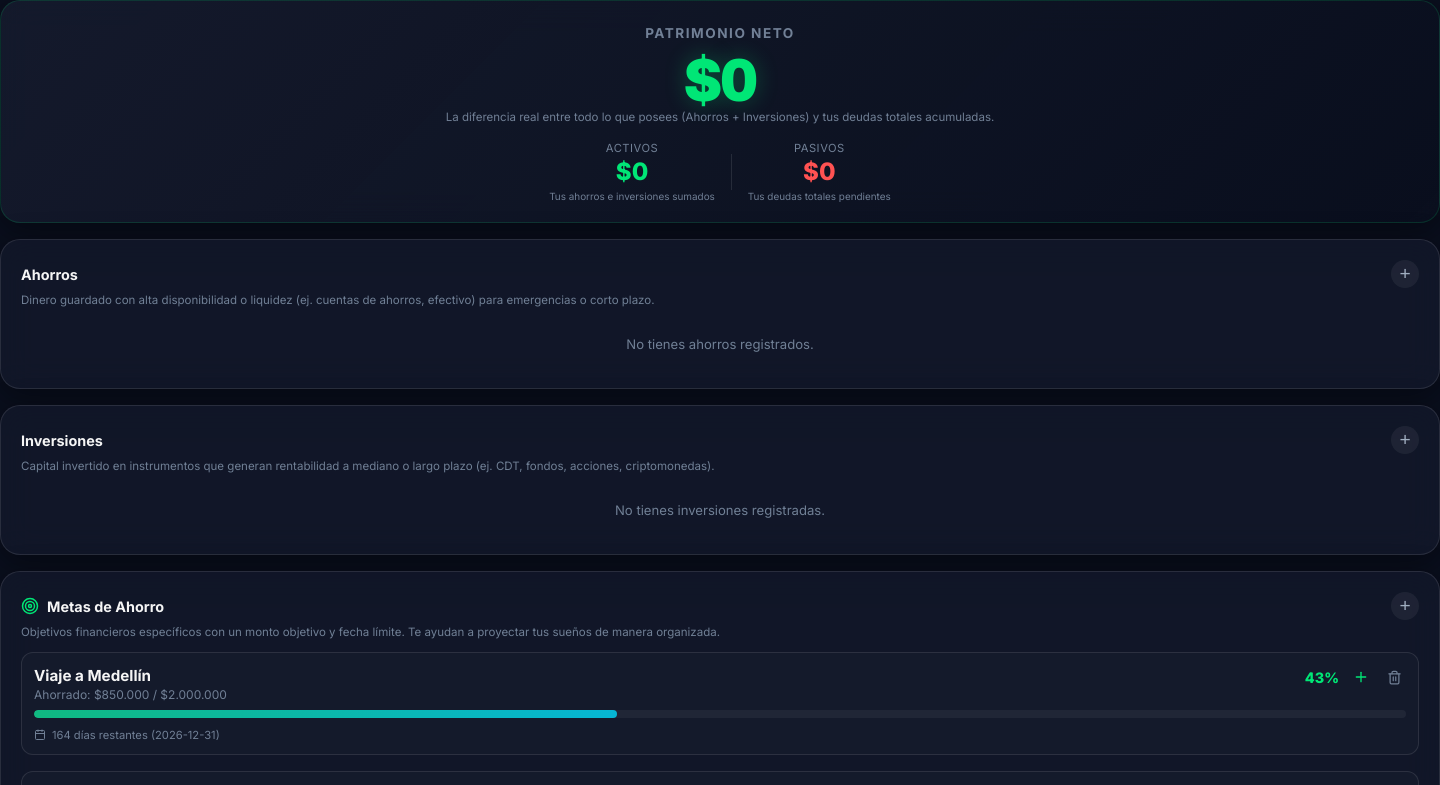
Test case: <Portfolio /> › opens Nuevo Ahorro modal
This screenshot has width=1440, height=785.
Find the + button next to Ahorros
Click the 1st button "+": (1405, 274) [1391,260,1419,288]
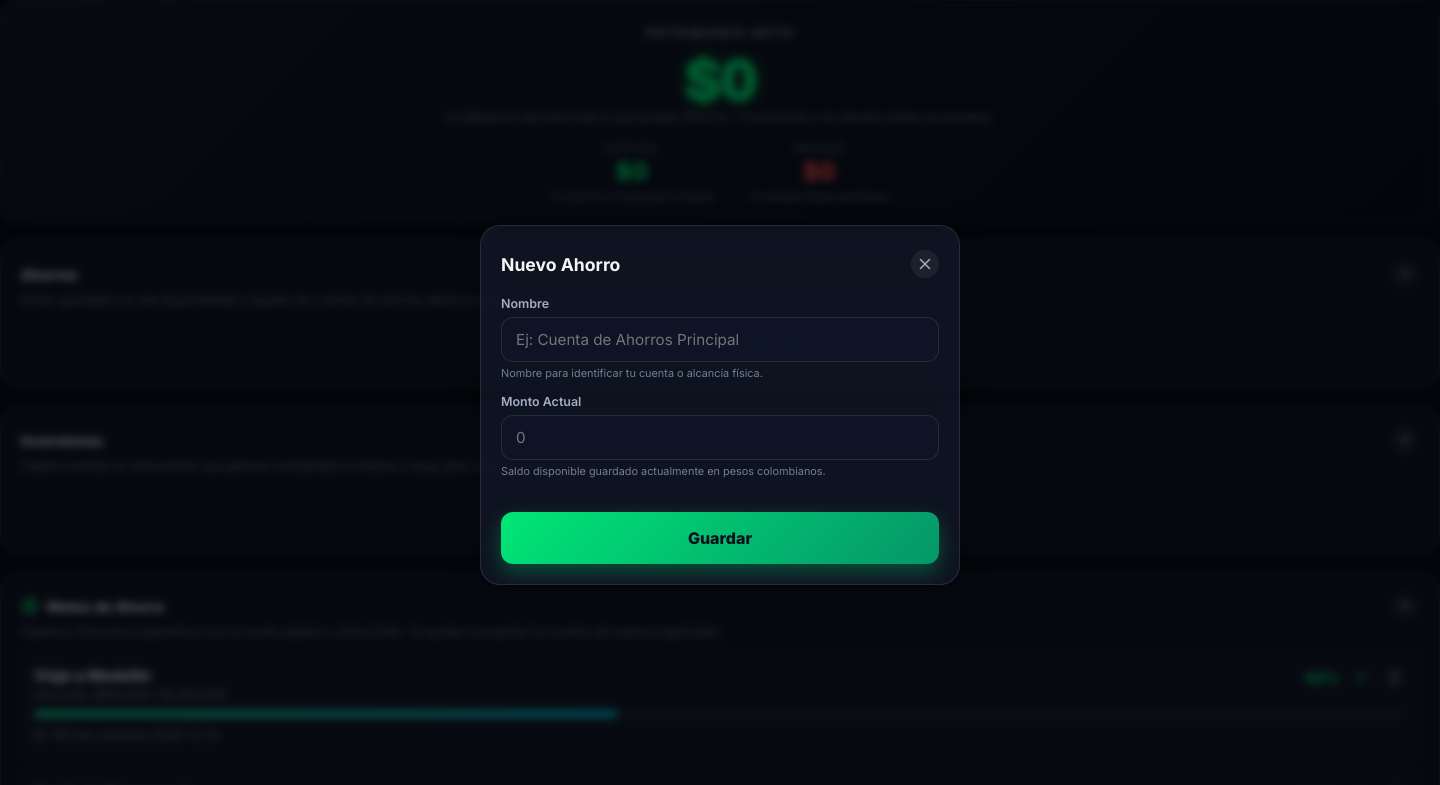
expect the text "Nuevo Ahorro" is shown: met, box [501,254,620,274]
